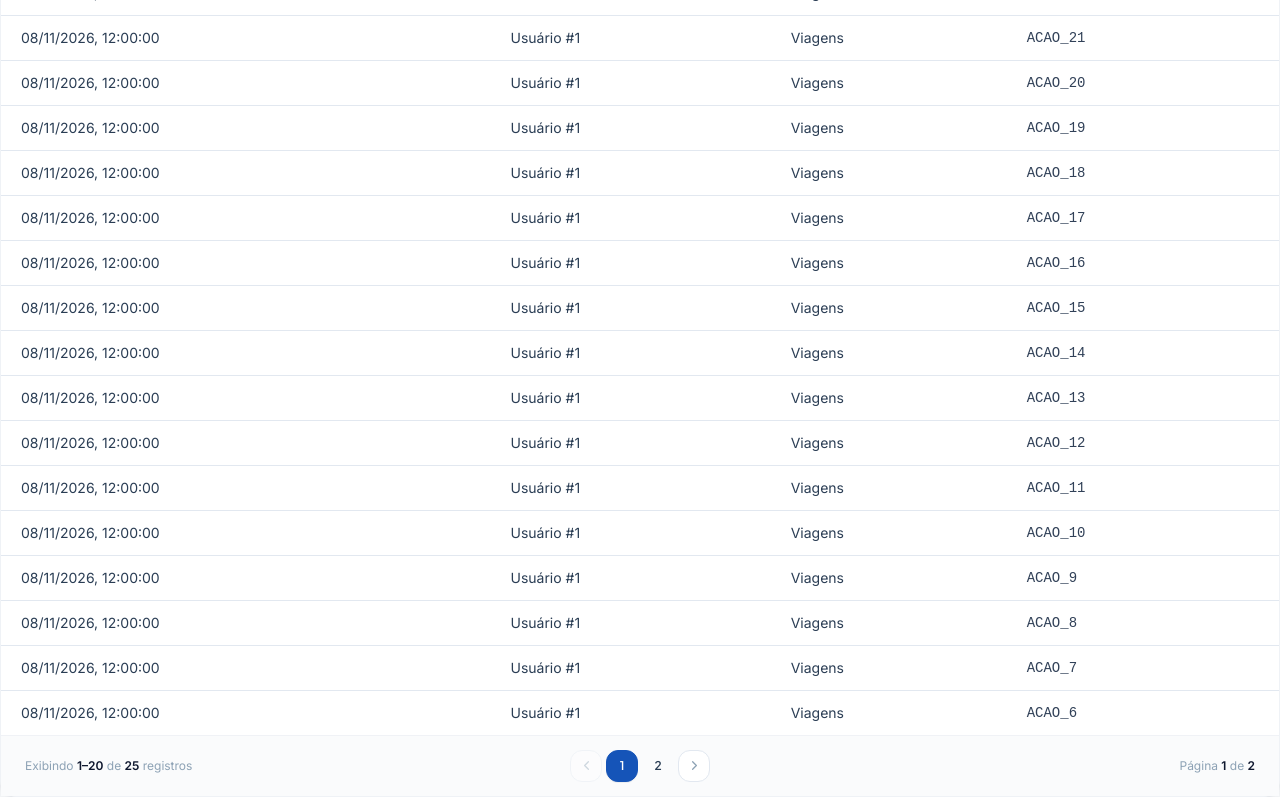
AuditoriaPage › busca cada página no servidor, sem carregar todo o histórico
(page scrolled)
Expected: the text "25" is shown, [124,758,139,772]
Click the button named "Próxima página".
click(694, 766)  # box [678,750,710,782]
(page scrolled)
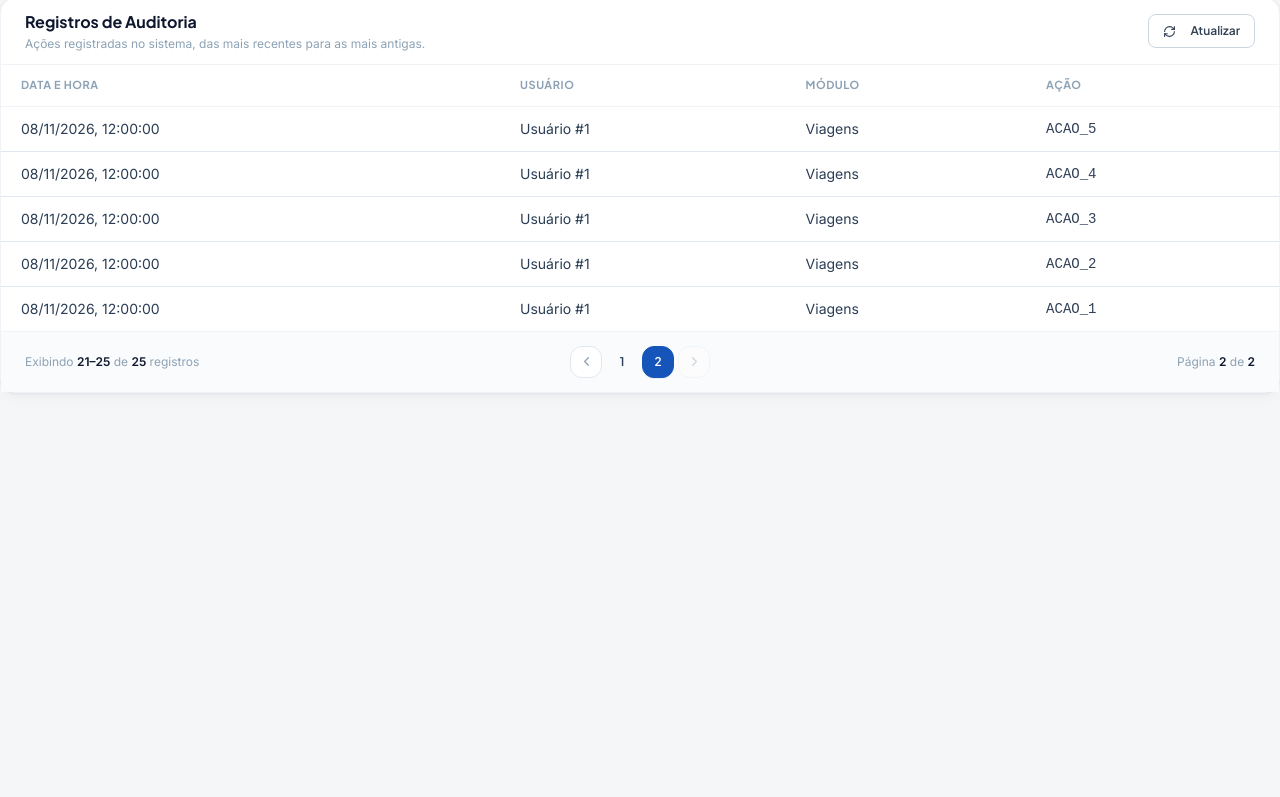
Expected: the text "ACAO_5" is shown, [1032,106,1279,151]
